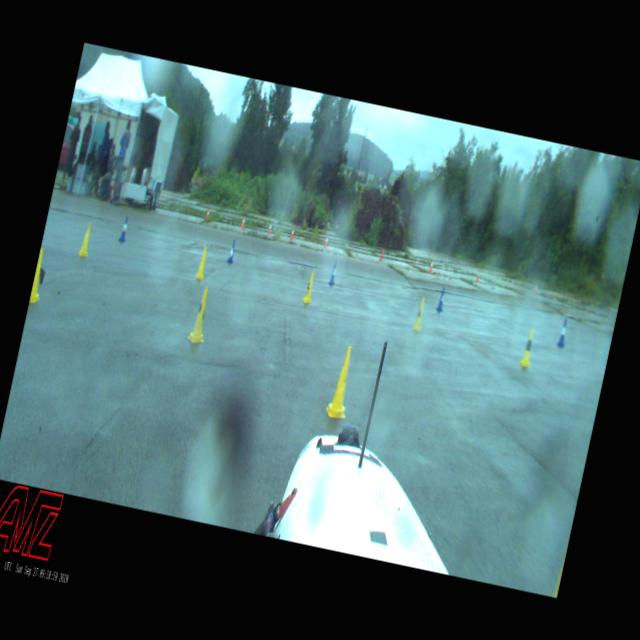blue_cone: (556, 318, 570, 347), (225, 238, 238, 264), (118, 215, 130, 242), (436, 286, 446, 312), (328, 261, 338, 285)
orange_cone: (474, 269, 481, 282), (323, 235, 329, 248), (266, 221, 272, 234), (289, 227, 295, 240), (240, 216, 246, 228), (204, 208, 210, 219), (428, 260, 433, 272), (379, 248, 384, 260)
yellow_cone: (324, 344, 359, 420), (186, 284, 214, 345), (28, 246, 50, 304), (519, 328, 537, 368), (77, 222, 94, 258), (194, 244, 210, 280), (412, 297, 428, 332), (301, 270, 317, 304)
